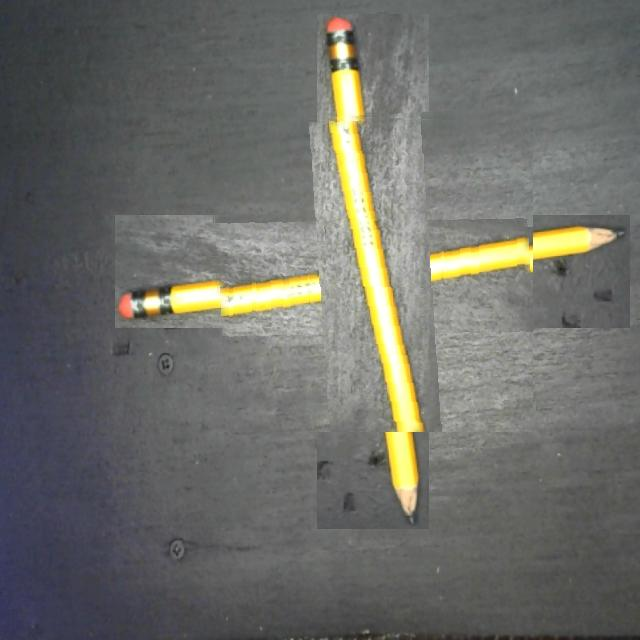biodegradable: (212, 111, 533, 432)
